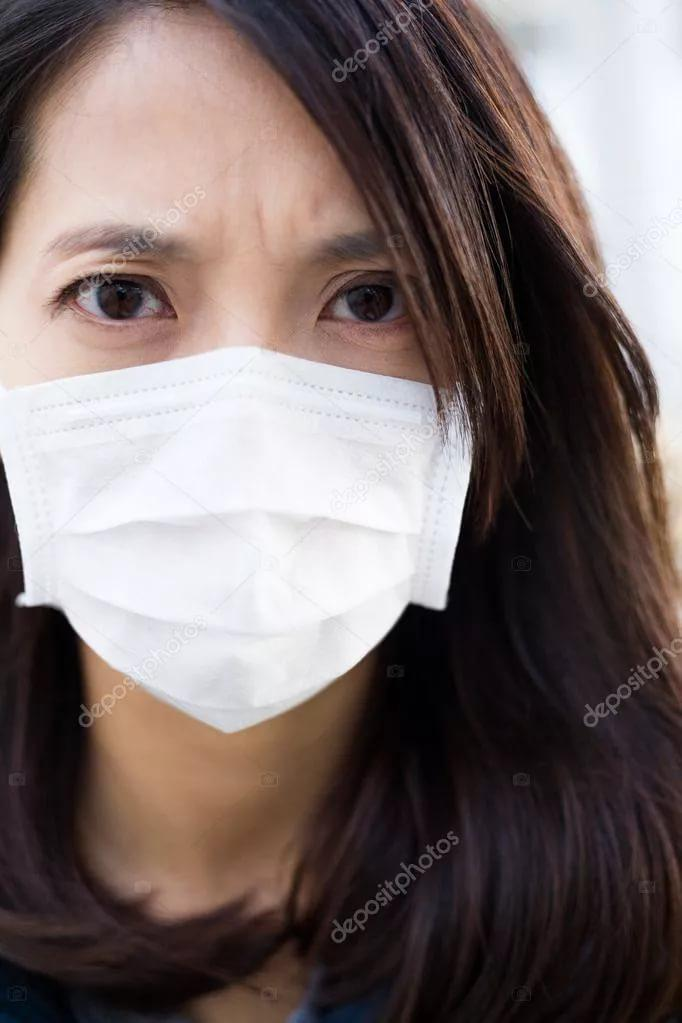mask: (1, 66, 484, 726)
